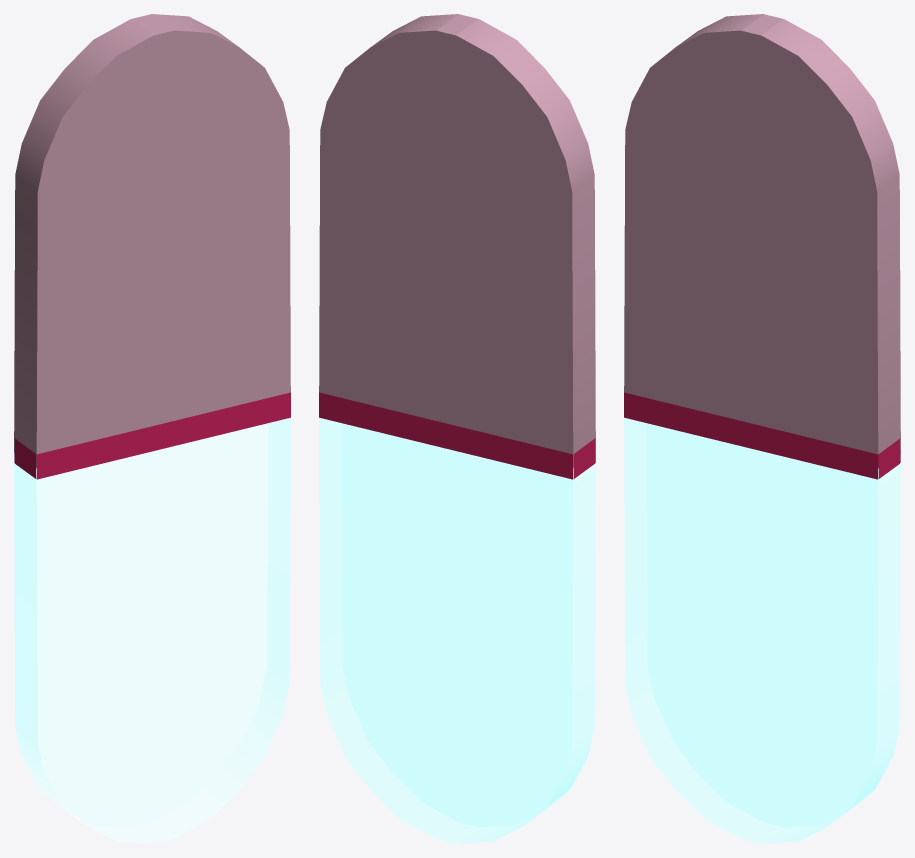
The model's file is pills 3.fbx.
3 renders of one model, left to right at view 1: azimuth 30°, elevation 25°; view 2: azimuth 150°, elevation 25°; view 3: azimuth 330°, elevation 25°, orthographic.
Visible parts, largest first — view 1: 立方体, 立方体_1; view 2: 立方体, 立方体_1; view 3: 立方体, 立方体_1.
Boxes of the visible parts, <box> form: 立方体: <box>14,14,290,468</box>; 立方体_1: <box>14,406,290,843</box>; 立方体: <box>319,14,595,468</box>; 立方体_1: <box>319,406,595,843</box>; 立方体: <box>624,14,900,468</box>; 立方体_1: <box>624,406,900,843</box>.
Size of the model in its own units: 11.94 by 36.27 by 1.84.
